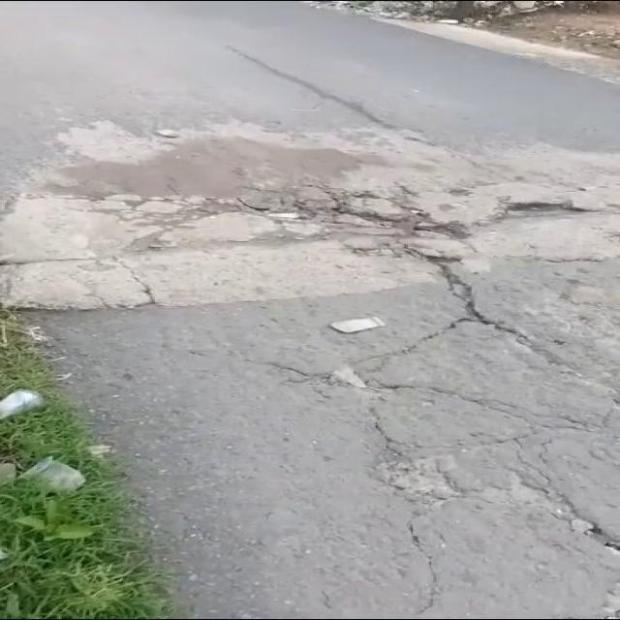lubang: (0, 123, 619, 308)
